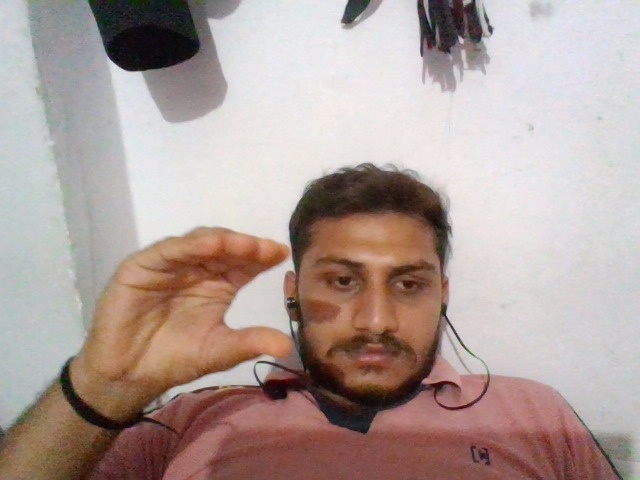No: (81, 214, 302, 396)
